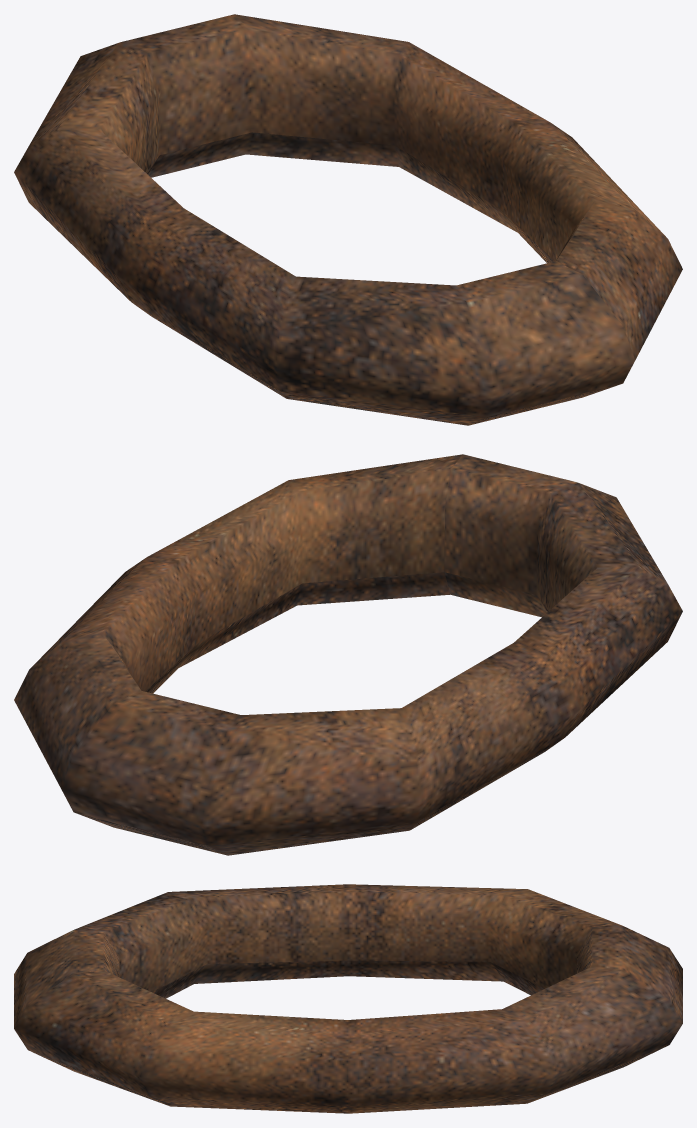
File: sm_Chain_01_01_Link.fbx
3 views of the same model, one above another, from view 1: azimuth 30°, elevation 25°; view 2: azimuth 150°, elevation 25°; view 3: azimuth 270°, elevation 25° (orthographic). The views are drawn at different scales.
Visible parts, largest first — view 1: sm_Chain_01_01_Link_LOD0; view 2: sm_Chain_01_01_Link_LOD0; view 3: sm_Chain_01_01_Link_LOD0.
Boxes of the visible parts, bbox=[...] form: sm_Chain_01_01_Link_LOD0: bbox=[14, 14, 682, 425]; sm_Chain_01_01_Link_LOD0: bbox=[14, 454, 682, 855]; sm_Chain_01_01_Link_LOD0: bbox=[14, 884, 682, 1113].
Size of the model in its own units: 6.67 by 10.53 by 1.79.
